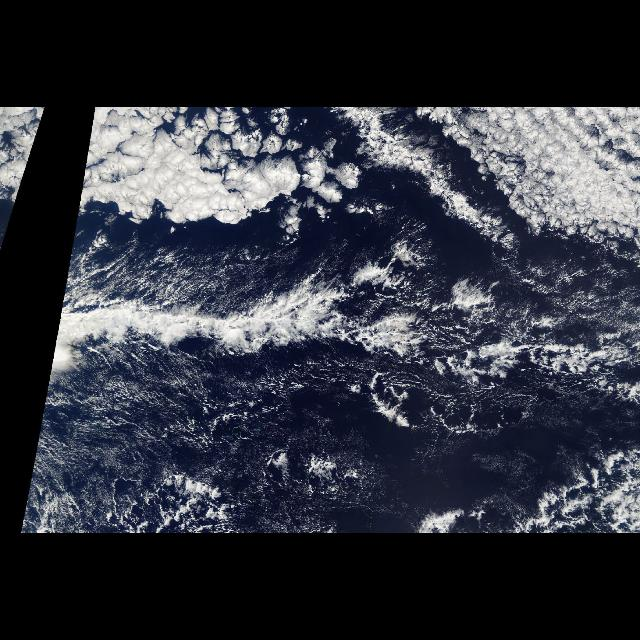Fish: (45, 232, 640, 452)
Flower: (72, 107, 358, 237), (405, 107, 639, 261), (0, 107, 48, 237)
Gravel: (87, 382, 639, 532)
Sugar: (31, 345, 382, 533)
